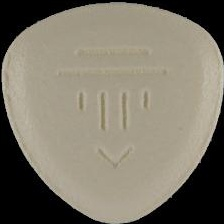0597-0182: (0, 0, 224, 224)
